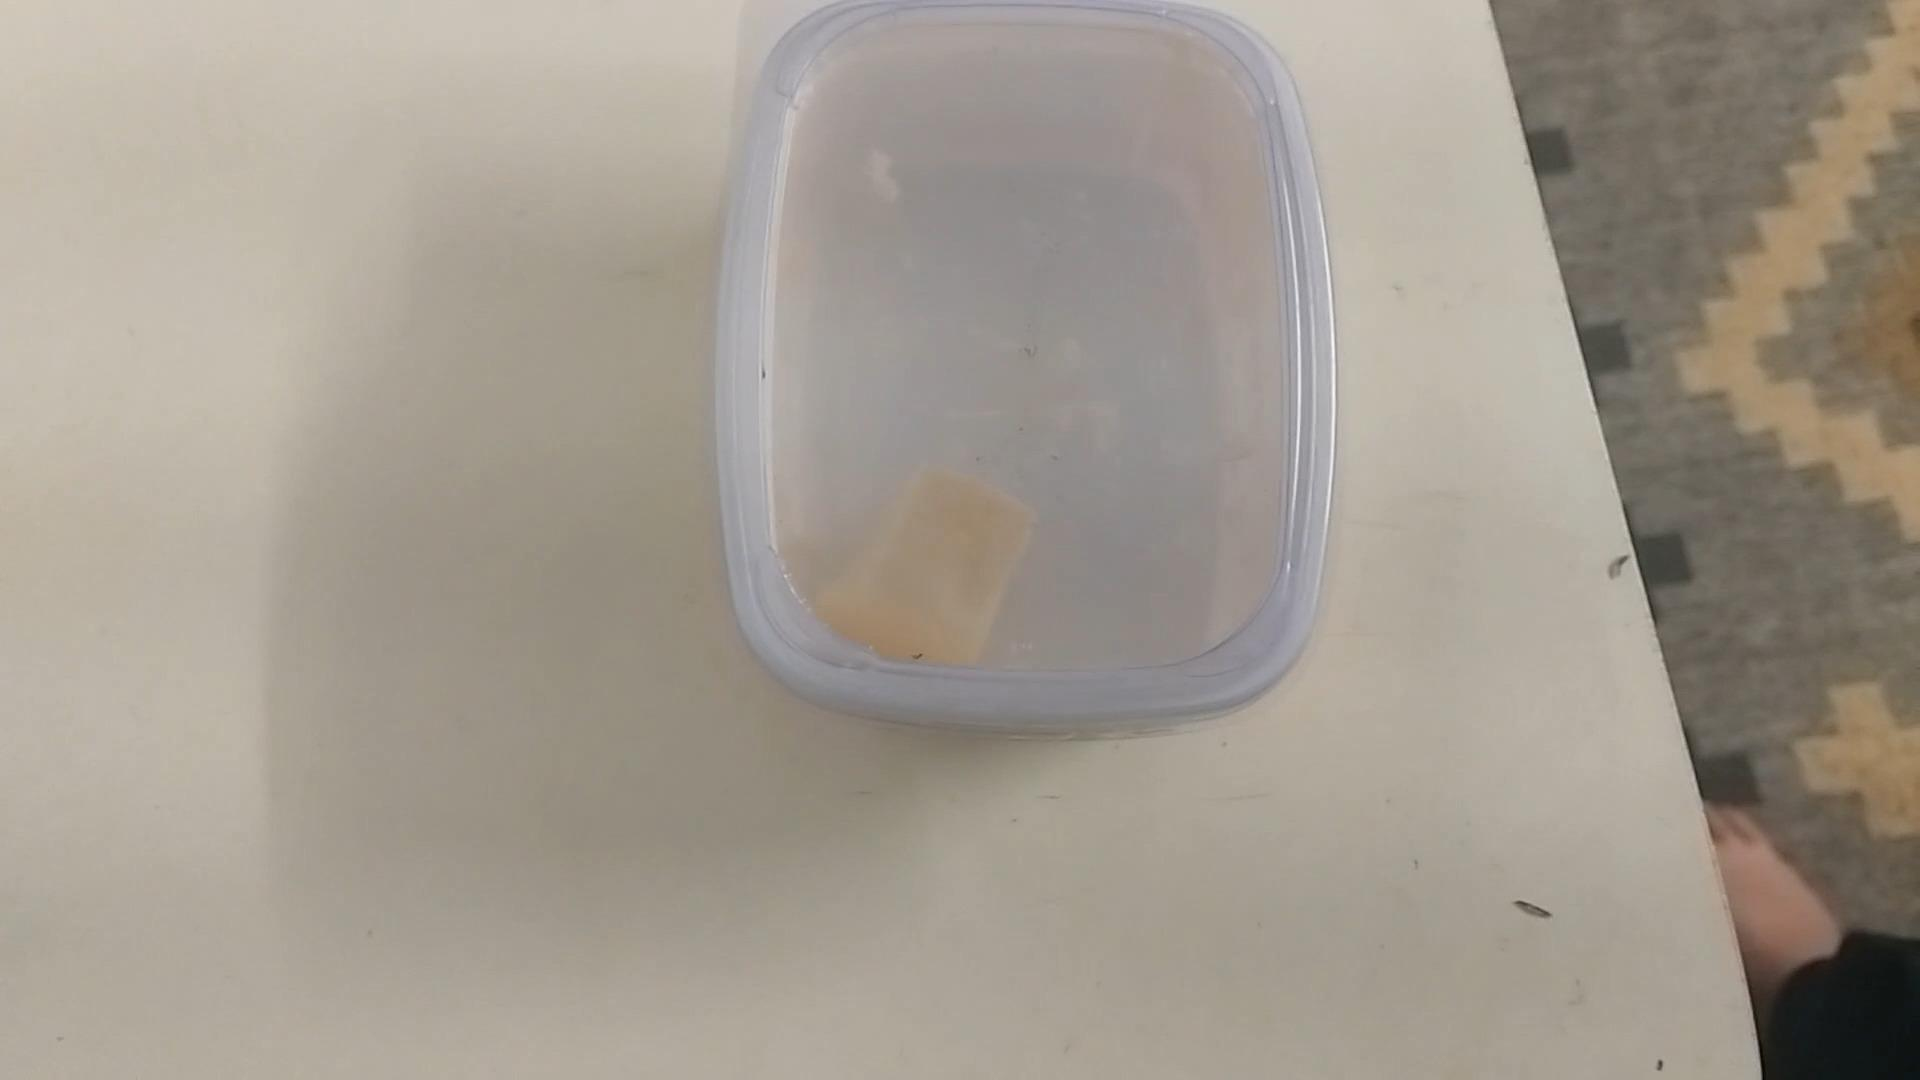butter: (724, 11, 1321, 737)
